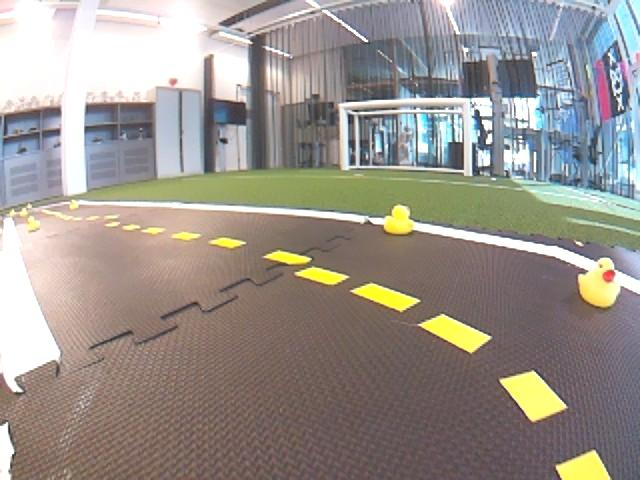Duckies: (579, 258, 619, 310), (384, 206, 415, 233), (26, 216, 41, 229), (18, 209, 29, 216), (69, 201, 78, 209), (10, 208, 18, 216), (26, 203, 32, 209)
